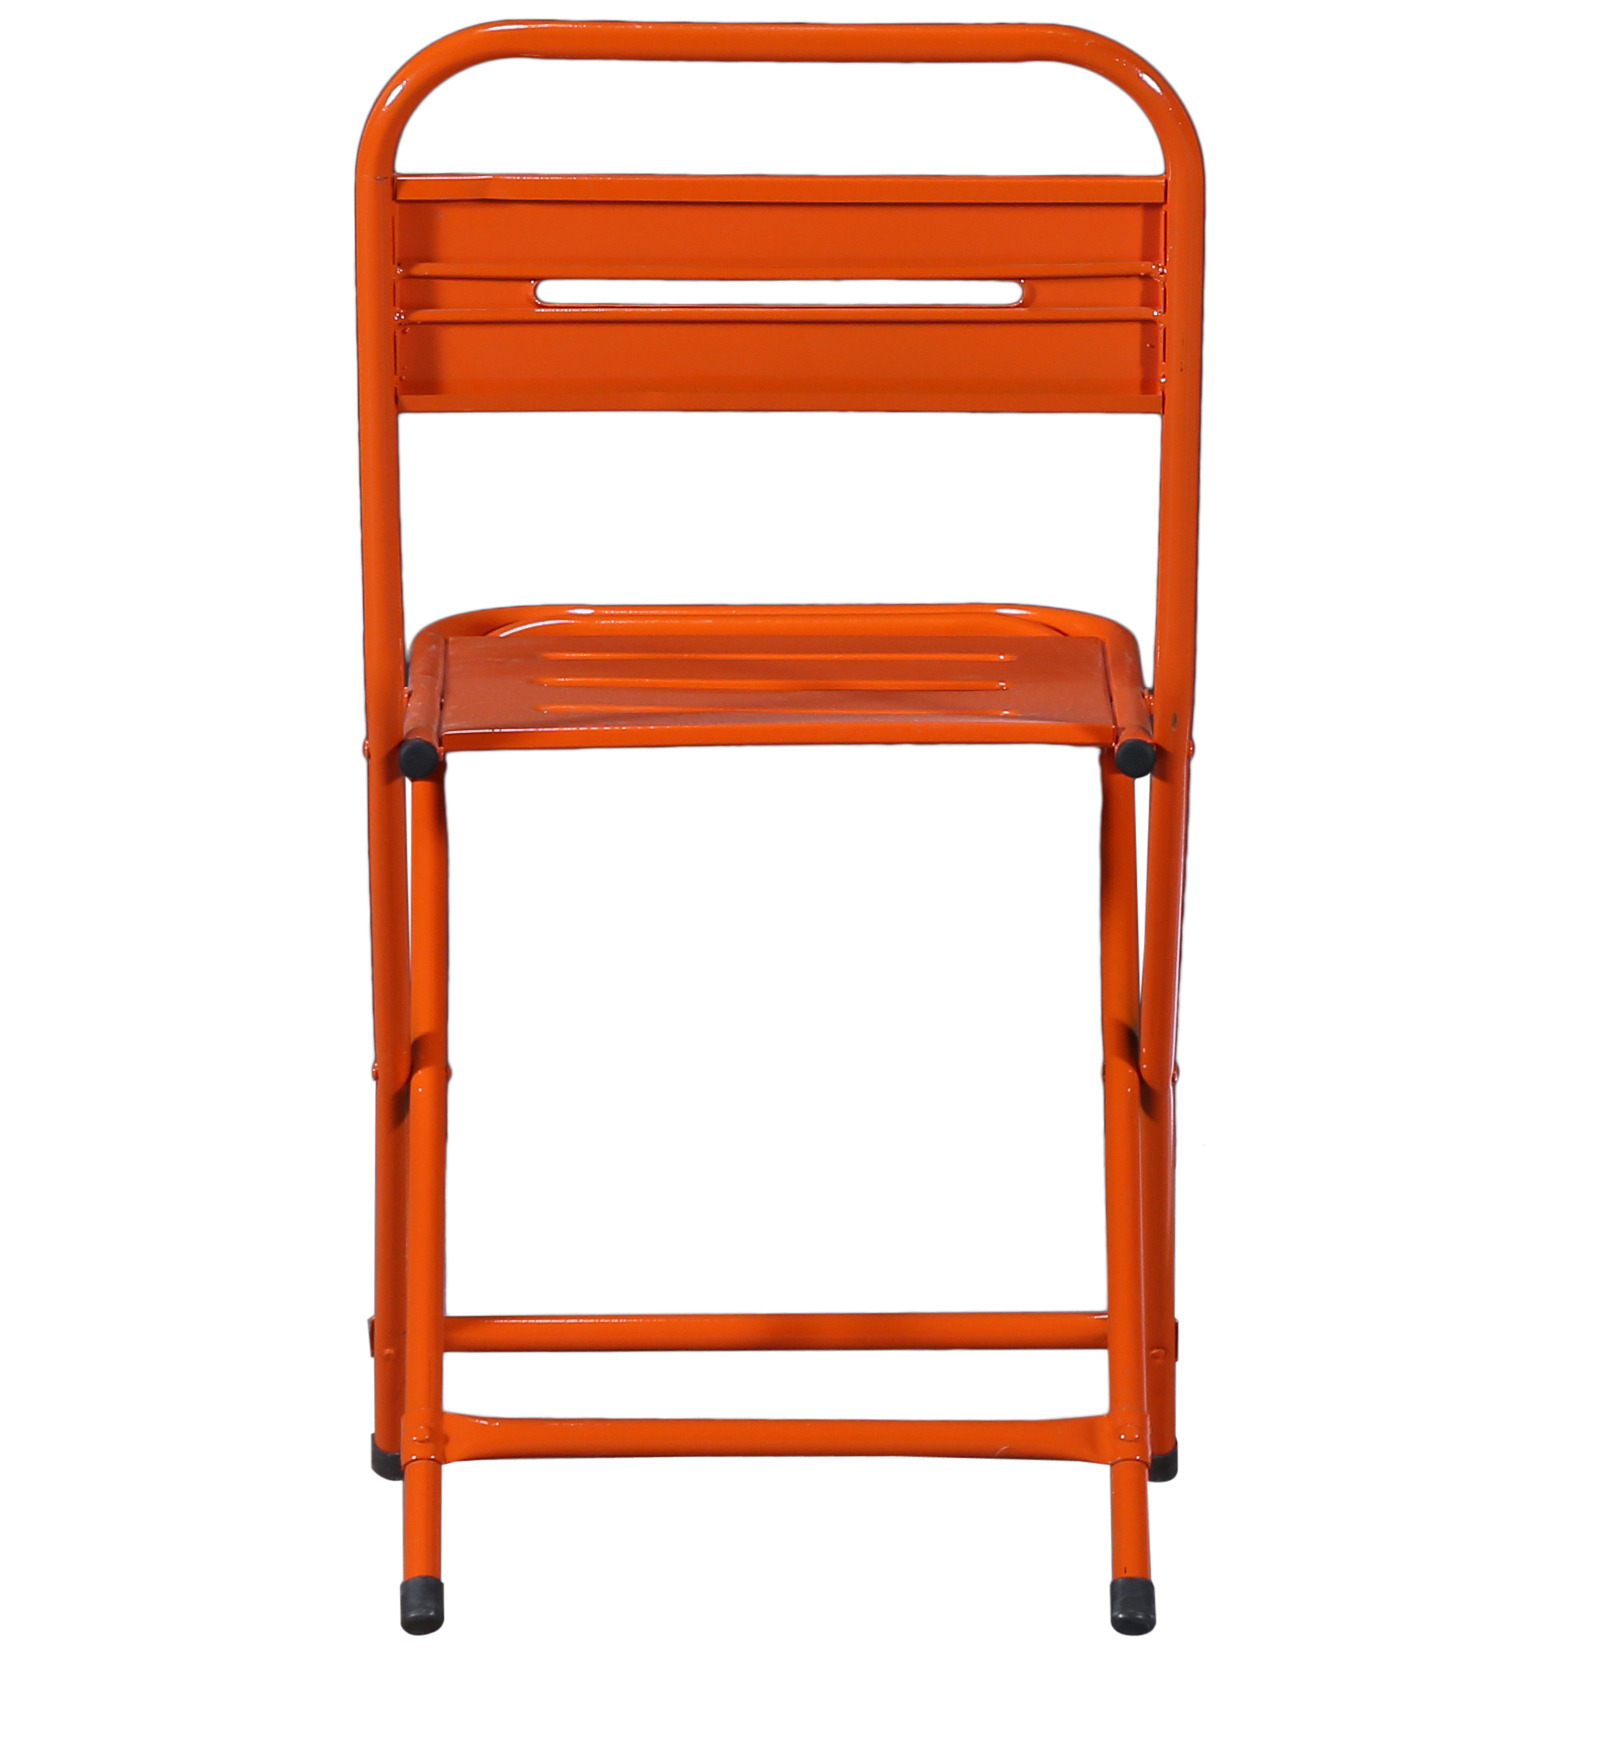Marandoo Grunge Orange Outdoor Folding Chair by Bohemiana: (342, 12, 1208, 1643)
